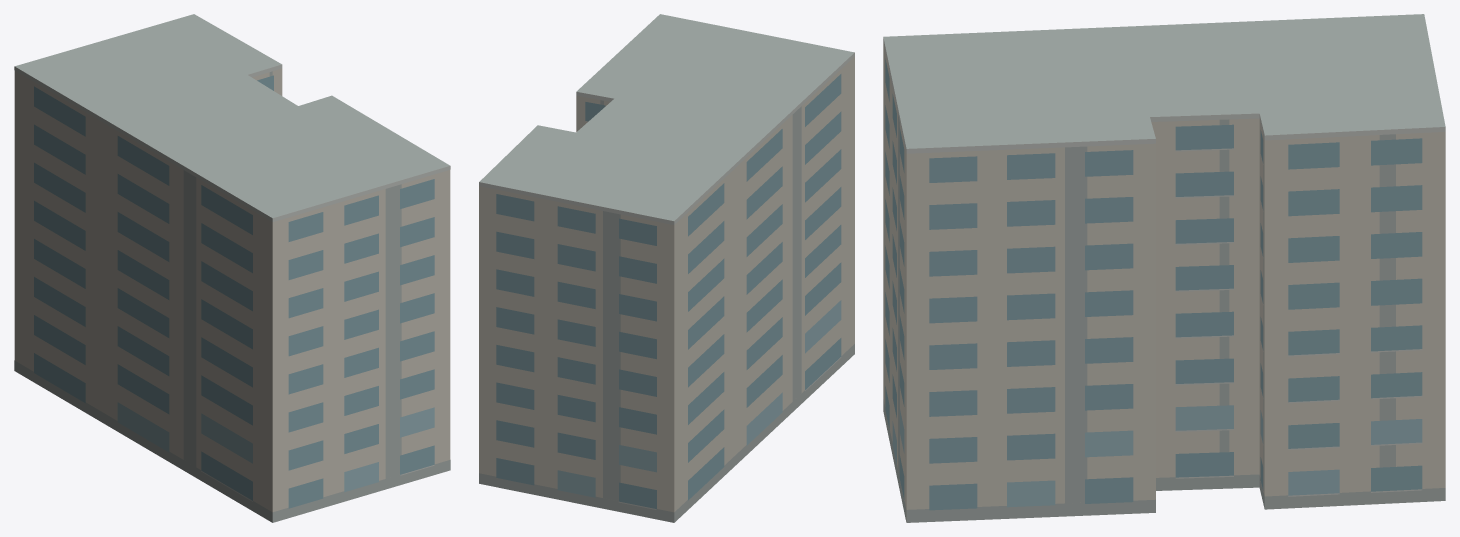
Rendered from survey-upis-32956276.glb.
The picture shows the model from 3 angles, left to right: view 1: azimuth 30°, elevation 25°; view 2: azimuth 150°, elevation 25°; view 3: azimuth 270°, elevation 25°; orthographic projection. The views are drawn at different scales.
Parts seen in each view (by area): view 1: survey-upis-32956276.tmp; view 2: survey-upis-32956276.tmp; view 3: survey-upis-32956276.tmp.
Boxes of the visible parts, x1=… form: survey-upis-32956276.tmp: x1=14, y1=14, x2=450, y2=522; survey-upis-32956276.tmp: x1=479, y1=14, x2=854, y2=522; survey-upis-32956276.tmp: x1=883, y1=14, x2=1445, y2=522.
Bounding box in the file's own units: 14.28 × 18.45 × 25.15.
